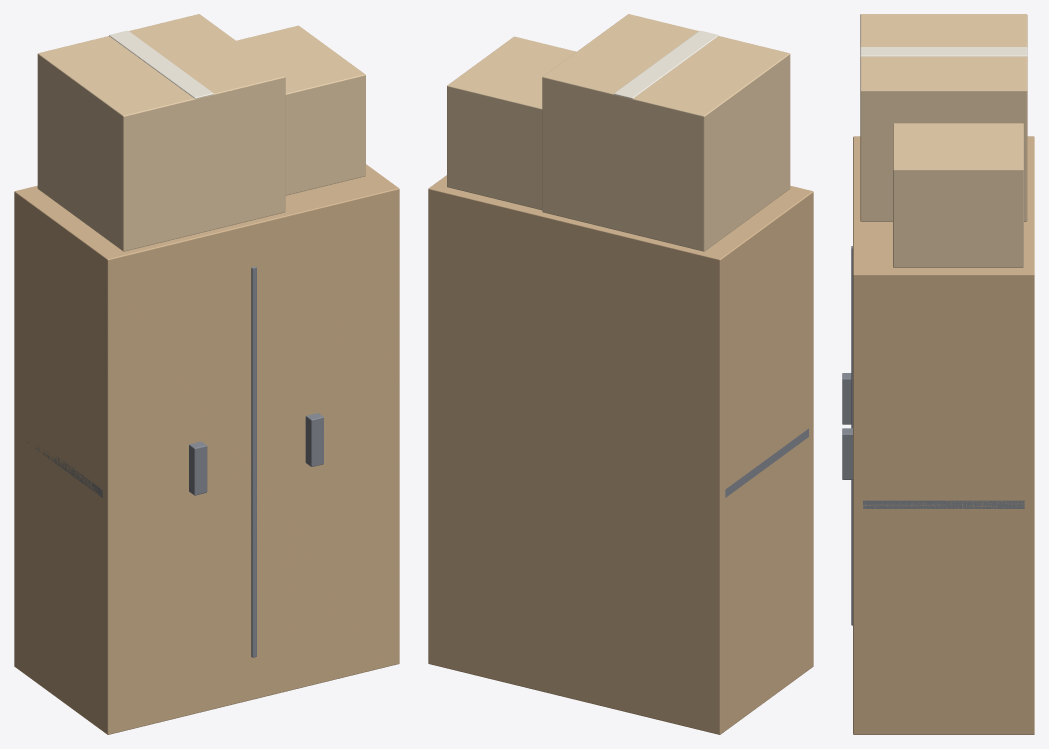
Rendered from Cabinet.fbx.
3 views of the same model, side by side, from view 1: azimuth 30°, elevation 25°; view 2: azimuth 150°, elevation 25°; view 3: azimuth 270°, elevation 25° (orthographic). The views are drawn at different scales.
Visible parts, largest first — view 1: Cabinet; view 2: Cabinet; view 3: Cabinet.
Boxes of the visible parts, x1,y1,x2,y2 form: Cabinet: [14, 14, 399, 734]; Cabinet: [428, 14, 813, 734]; Cabinet: [842, 14, 1034, 734].
Size of the model in its own units: 0.9 by 1.8 by 0.53.
